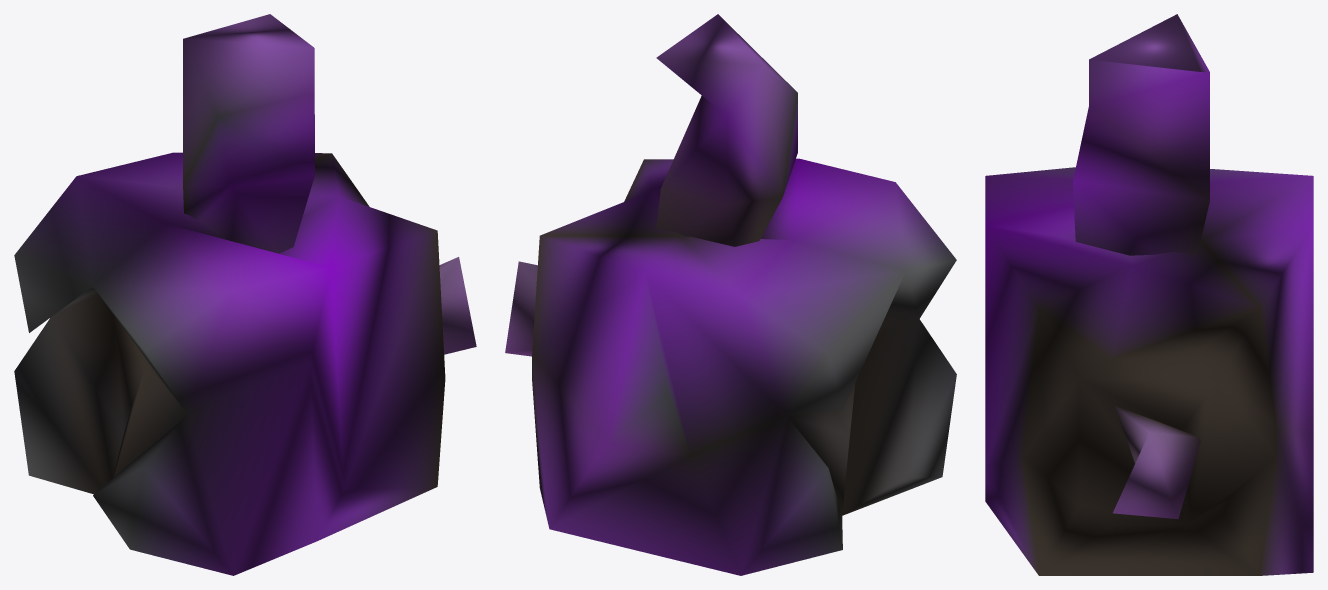
The model's file is ciws_emitter_lod8.glb.
The picture shows the model from 3 angles, left to right: view 1: azimuth 30°, elevation 25°; view 2: azimuth 150°, elevation 25°; view 3: azimuth 270°, elevation 25°; orthographic projection. The views are drawn at different scales.
Parts seen in each view (by area): view 1: ciws_emitter; view 2: ciws_emitter; view 3: ciws_emitter.
Part boxes in pixels (x1,y1,x2,y2): ciws_emitter: [14, 14, 476, 575]; ciws_emitter: [505, 14, 956, 575]; ciws_emitter: [985, 14, 1313, 575].
Size of the model in its own units: 4.03 by 4.66 by 2.89.
